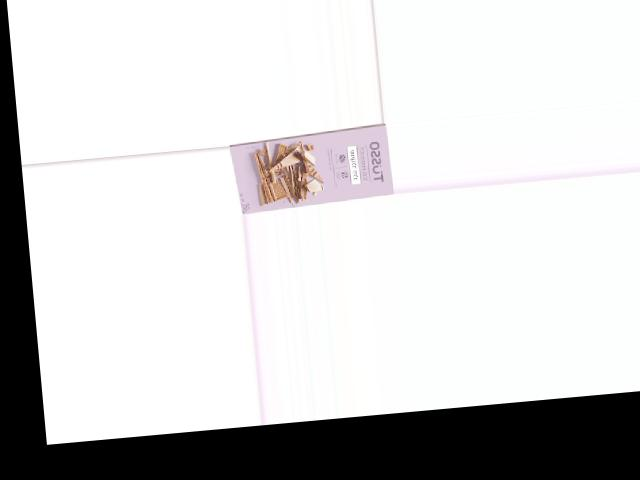chocolate: (228, 127, 390, 210)
